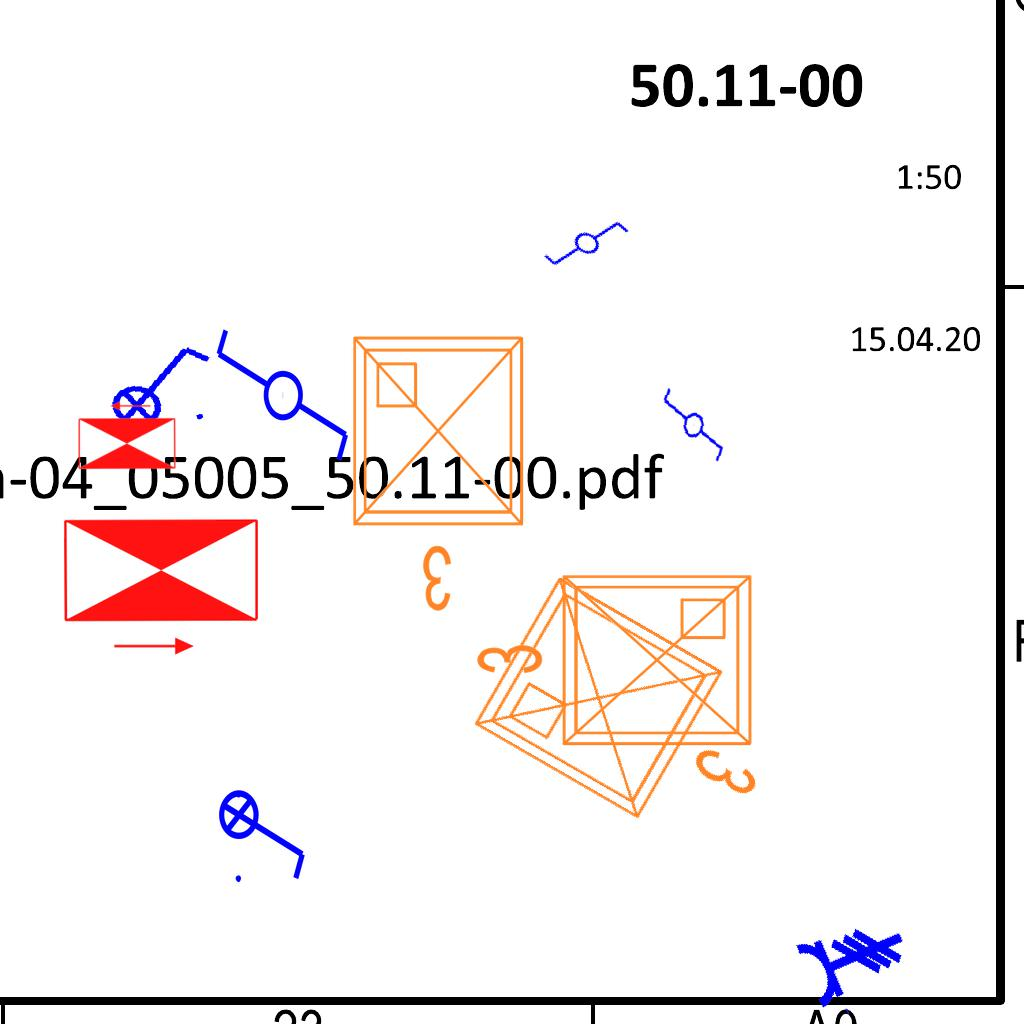Ausschalter_beleuchtet: (95, 326, 221, 440), (217, 776, 313, 888)
CEE_Drehstrom_Steckdose_16_32_A: (792, 903, 924, 1024)
Einbaudownlights_LED_Konferenzraeume: (454, 549, 818, 881), (338, 322, 546, 622), (466, 560, 766, 768)
Fluchtwegpiktogramm: (57, 513, 265, 660), (75, 399, 179, 472)
Wechselschalter: (209, 325, 353, 482), (539, 196, 641, 296), (650, 385, 734, 473)
